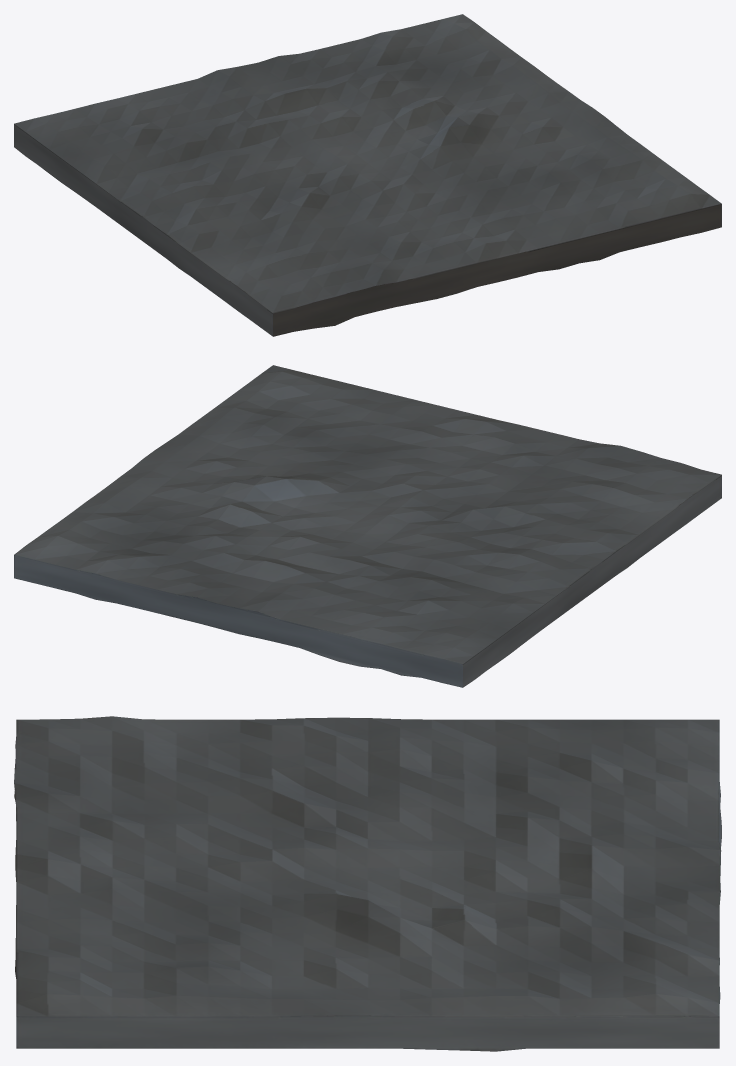
File: bigCaveWallDark.glb
The picture shows the model from 3 angles, top to bottom: view 1: azimuth 30°, elevation 25°; view 2: azimuth 150°, elevation 25°; view 3: azimuth 270°, elevation 25°; orthographic projection. The views are drawn at different scales.
Visible parts, largest first — view 1: Cube.001; view 2: Cube.001; view 3: Cube.001.
Boxes of the visible parts, box(x1,y1,x2,y2) form: Cube.001: box(14, 14, 721, 336); Cube.001: box(14, 365, 721, 687); Cube.001: box(14, 716, 721, 1051).
Bounding box in the file's own units: 20.08 × 2.14 × 20.14.
1 material, 1 textured.
